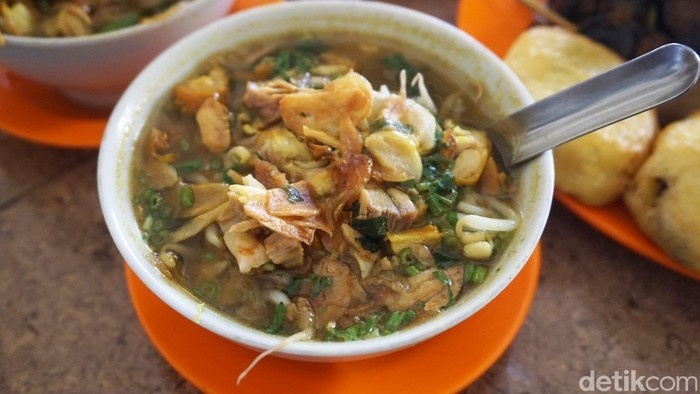soto: (105, 17, 525, 352)
